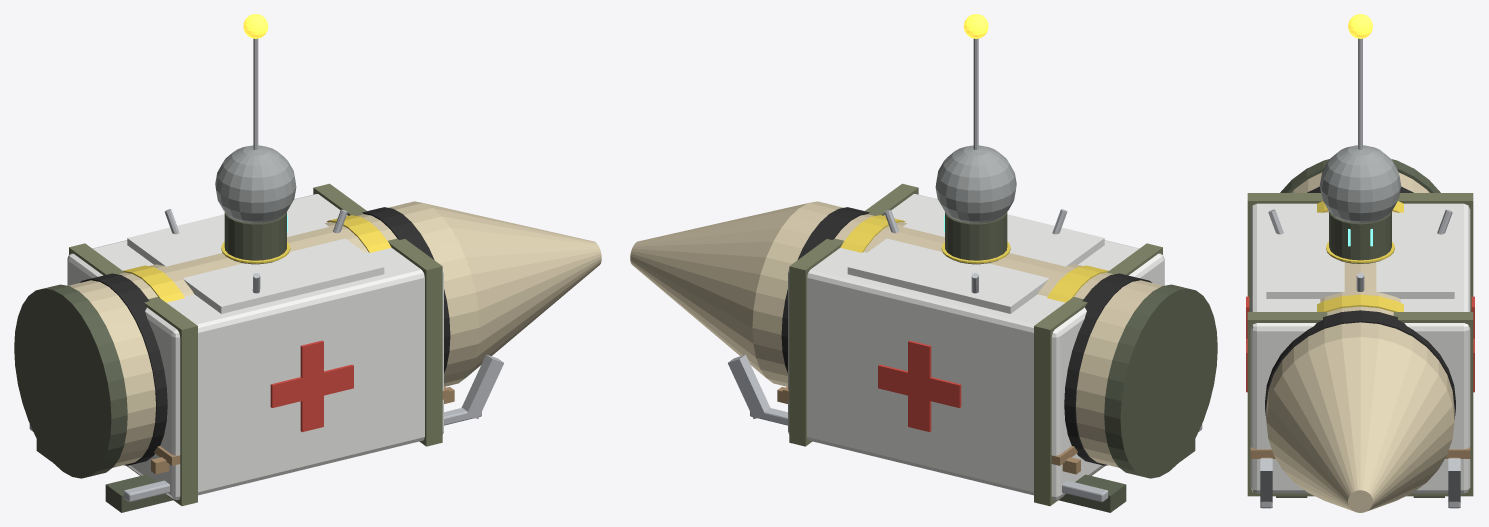
The model's file is items_bt.glb.
3 views of the same model, side by side, from view 1: azimuth 30°, elevation 25°; view 2: azimuth 150°, elevation 25°; view 3: azimuth 270°, elevation 25° (orthographic).
Parts seen in each view (by area): view 1: Cube.013, Cylinder.026, Cylinder.021, Cone, Cube.077, Sphere, Cube.024, Cube.025, Cylinder.022, Cylinder.007, Cube.014, Cube.015 (+7 smaller); view 2: Cube.013, Cylinder.026, Cylinder.021, Cone, Cube.077, Sphere, Cube.024, Cube.025, Cylinder.022, Cylinder.007, Cube.016, Cube.017 (+7 smaller); view 3: Cone, Cube.013, Cube.077, Sphere, Cylinder.021, Cube.025, Cube.024, Cylinder.007, Cylinder.023, Cylinder.025, Cylinder.026, Cube.066 (+5 smaller).
Boxes of the visible parts, x1,y1,x2,y2 form: Cube.013: [67, 194, 443, 499]; Cylinder.026: [14, 284, 127, 478]; Cylinder.021: [68, 201, 479, 467]; Cone: [424, 203, 601, 377]; Cube.077: [127, 200, 384, 313]; Sphere: [215, 145, 296, 223]; Cube.024: [69, 243, 197, 506]; Cube.025: [313, 183, 442, 446]; Cylinder.022: [80, 273, 167, 465]; Cylinder.007: [224, 212, 286, 264]; Cube.014: [270, 364, 353, 407]; Cube.015: [300, 340, 323, 432]; Cube.013: [788, 194, 1164, 499]; Cylinder.026: [1104, 284, 1217, 478]; Cylinder.021: [752, 201, 1163, 467]; Cone: [630, 203, 807, 377]; Cube.077: [847, 200, 1104, 313]; Sphere: [935, 145, 1016, 223]; Cube.024: [1034, 243, 1162, 506]; Cube.025: [789, 183, 918, 446]; Cylinder.022: [1064, 273, 1151, 465]; Cylinder.007: [945, 212, 1007, 264]; Cube.016: [878, 364, 961, 407]; Cube.017: [908, 340, 931, 432]; Cone: [1266, 337, 1454, 512]; Cube.013: [1250, 203, 1470, 493]; Cube.077: [1266, 212, 1454, 298]; Sphere: [1319, 145, 1401, 223]; Cylinder.021: [1266, 172, 1454, 421]; Cube.025: [1247, 312, 1473, 496]; Cube.024: [1247, 193, 1473, 311]; Cylinder.007: [1329, 211, 1391, 263]; Cylinder.023: [1265, 310, 1455, 418]; Cylinder.025: [1317, 294, 1403, 311]; Cylinder.026: [1280, 159, 1440, 192]; Cube.066: [1260, 458, 1272, 507].
Size of the model in its own units: 1.96 by 1.51 by 0.73.
4 materials, 4 textured.
